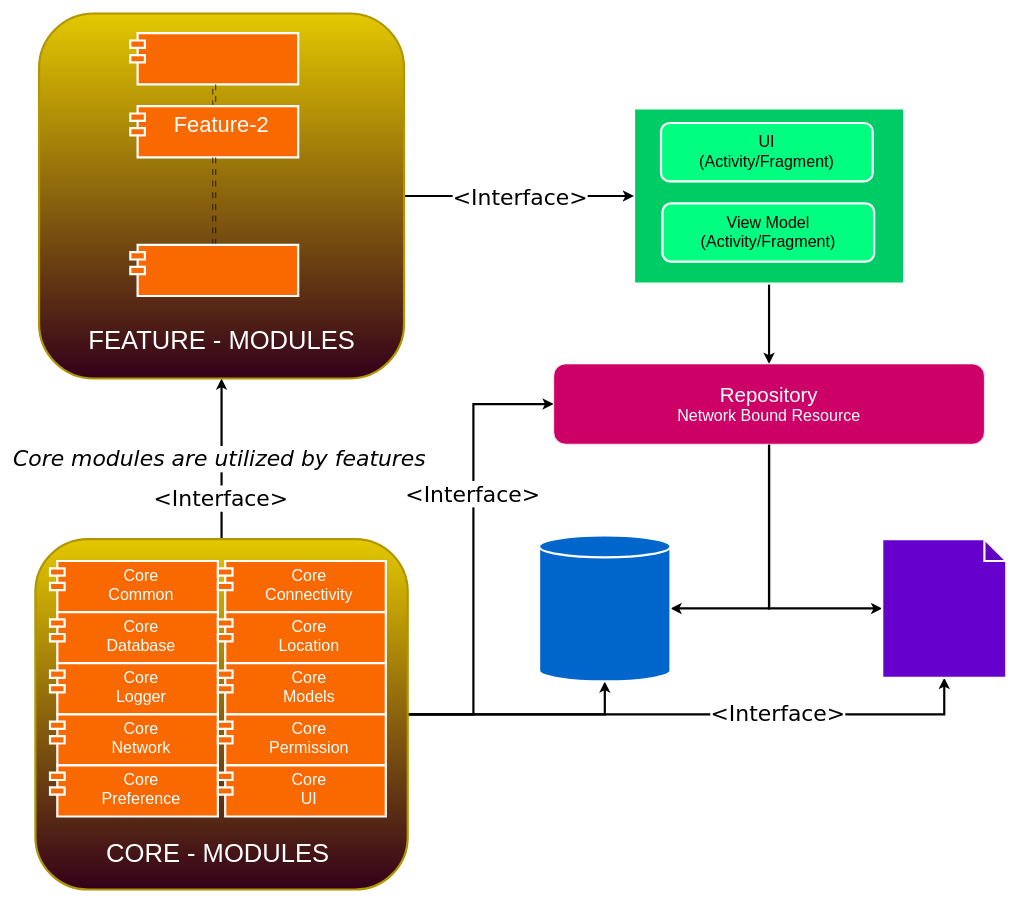
This 1020x903 diagram has some shape labels left out. Here are the shapes that lost their labels. From the top down, the box of each, then its label:
(129, 32, 299, 85): Feature-1
(129, 243, 299, 297): Feature-N
(538, 534, 671, 682): Database Room
(881, 538, 1007, 679): Network Retrofit
